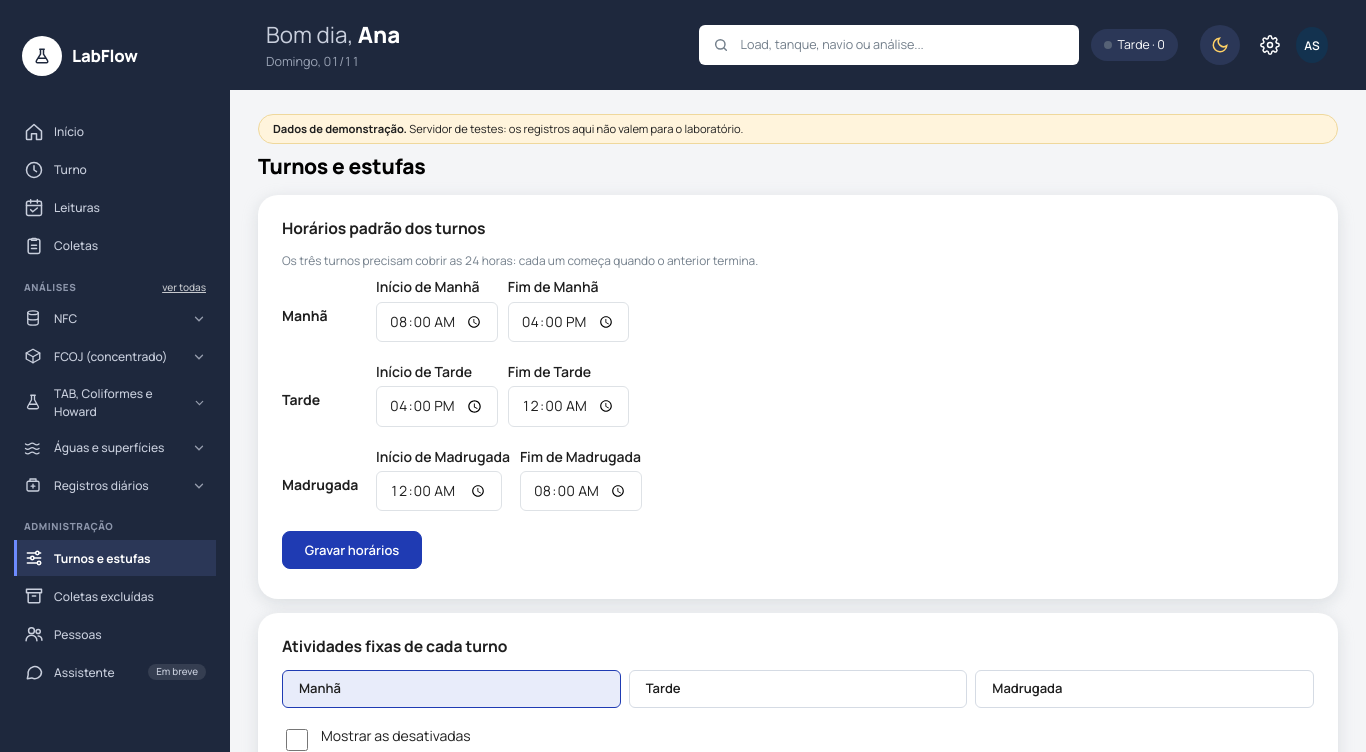
Admin → Turnos e estufas (APP-028) › grava os horários dos três turnos de uma vez
Replace the text in the time field labelled "Início de Manhã" with "07:00" at {"x": 437, "y": 322}, box [376,302,498,342]
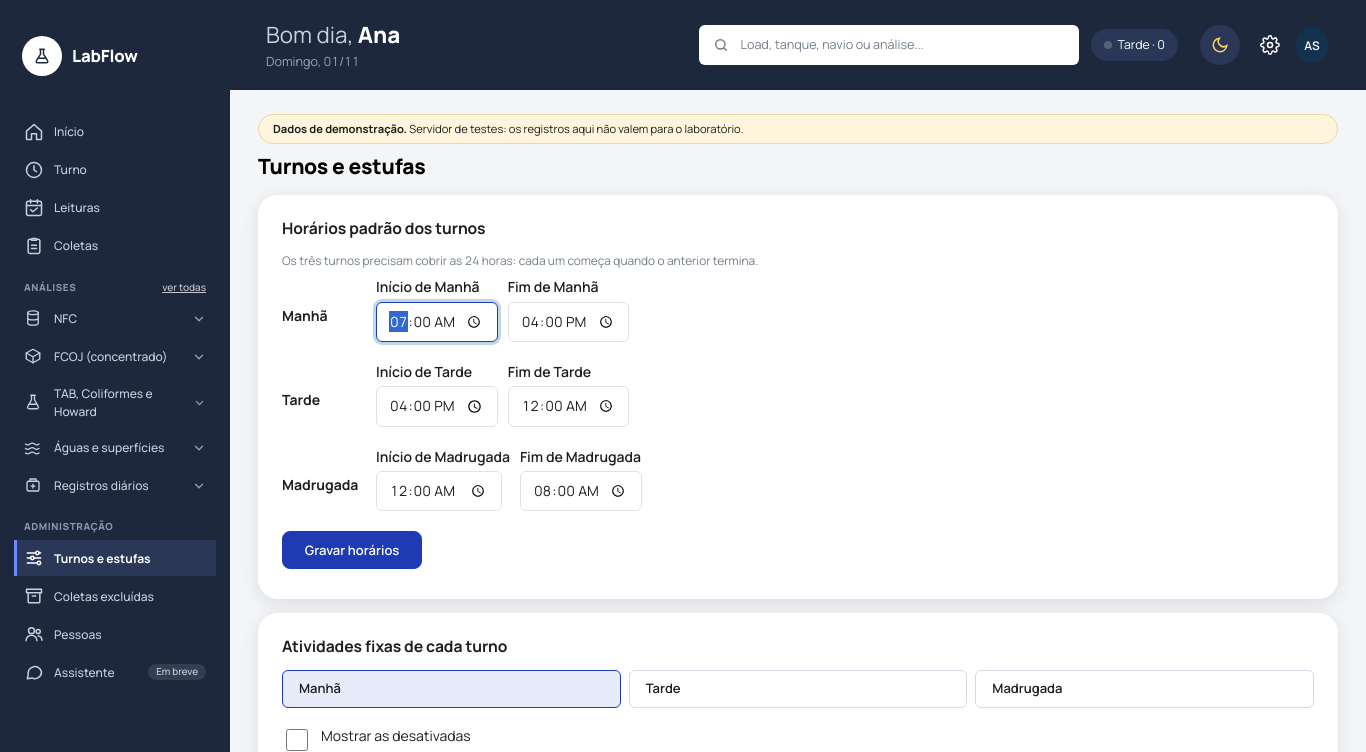
Click the button "Gravar horários" at {"x": 352, "y": 550}, box [282,531,422,569]
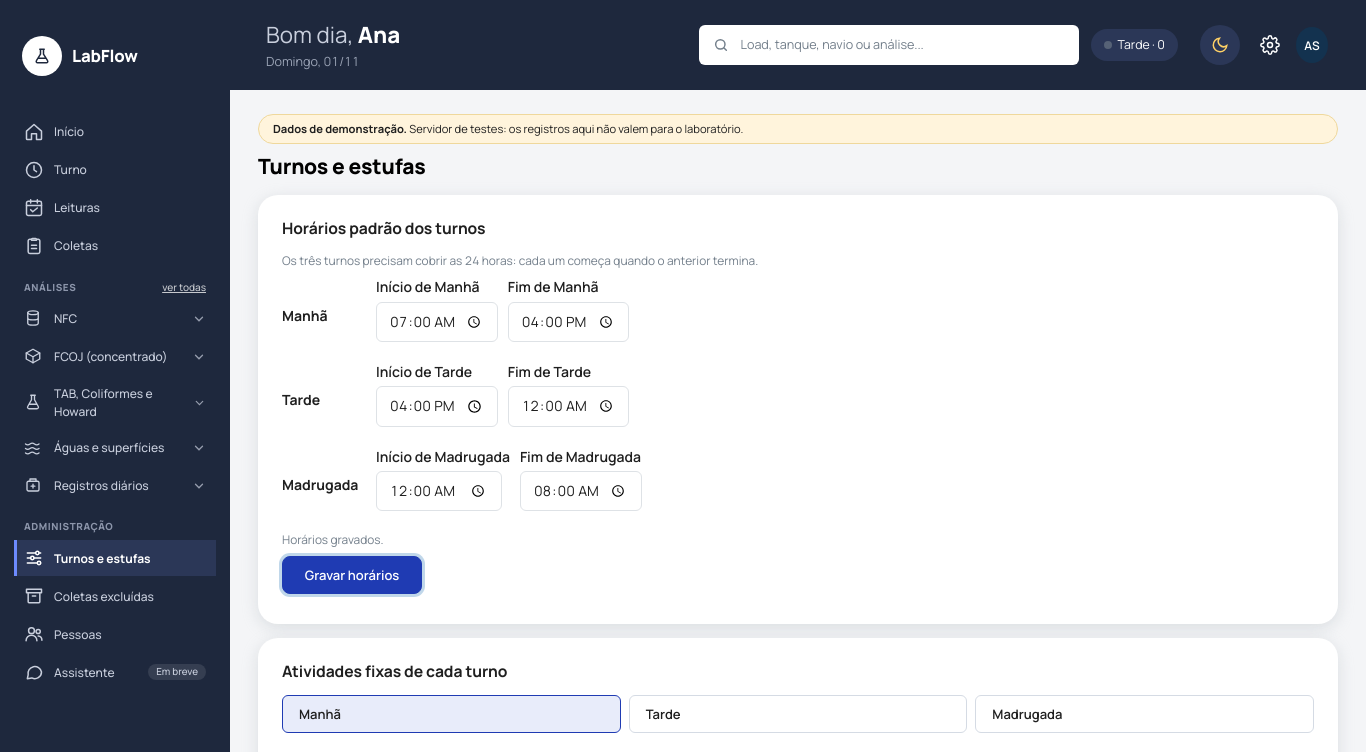
Now the text "Horários gravados." is shown, box [282,531,384,548]
